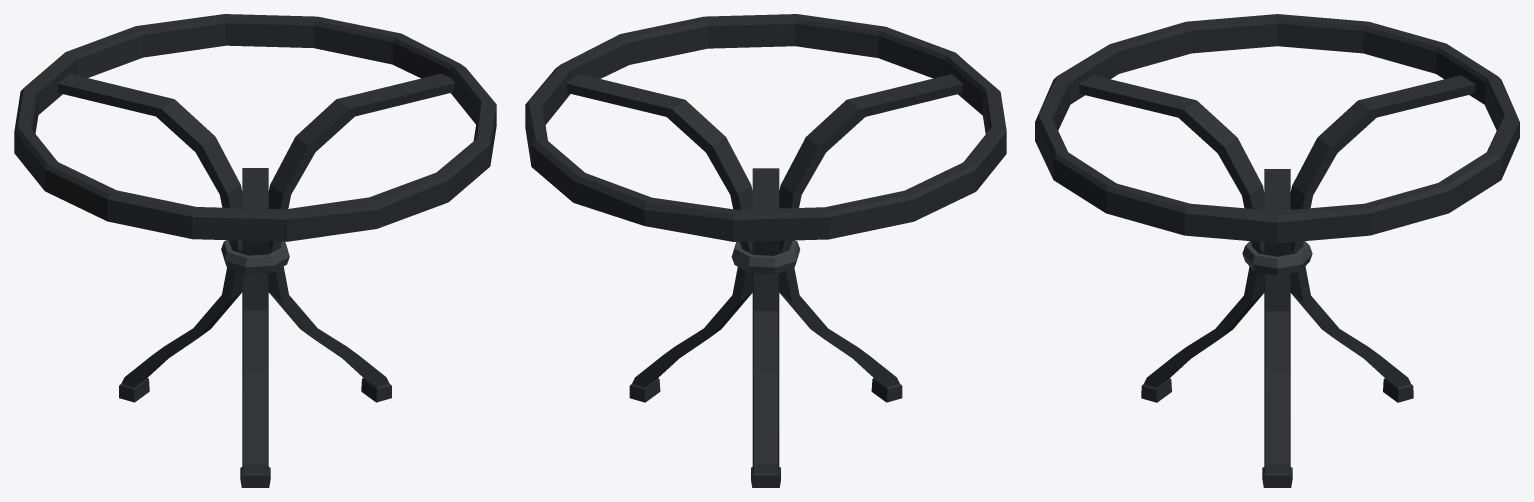
The model's file is SM_Prop_Cafe_Table_01.obj.
The picture shows the model from 3 angles, left to right: view 1: azimuth 30°, elevation 25°; view 2: azimuth 150°, elevation 25°; view 3: azimuth 270°, elevation 25°; orthographic projection.
Visible parts, largest first — view 1: SM_Prop_Cafe_Table_01_0; view 2: SM_Prop_Cafe_Table_01_0; view 3: SM_Prop_Cafe_Table_01_0.
Part boxes in pixels (bbox=[...]): SM_Prop_Cafe_Table_01_0: bbox=[14, 14, 496, 487]; SM_Prop_Cafe_Table_01_0: bbox=[525, 14, 1006, 487]; SM_Prop_Cafe_Table_01_0: bbox=[1035, 14, 1519, 487].
Size of the model in its own units: 1.09 by 0.7723 by 1.09.
1 material, 1 textured.
